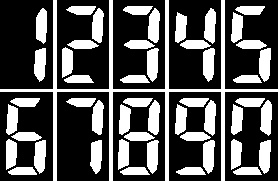eight: (117, 97, 161, 176)
five: (231, 4, 272, 84)
four: (175, 7, 216, 82)
nine: (175, 97, 216, 176)
one: (34, 7, 48, 82)
seven: (65, 96, 104, 174)
six: (5, 97, 47, 176)
three: (120, 4, 161, 83)
two: (62, 5, 105, 83)
zero: (230, 97, 273, 176)
